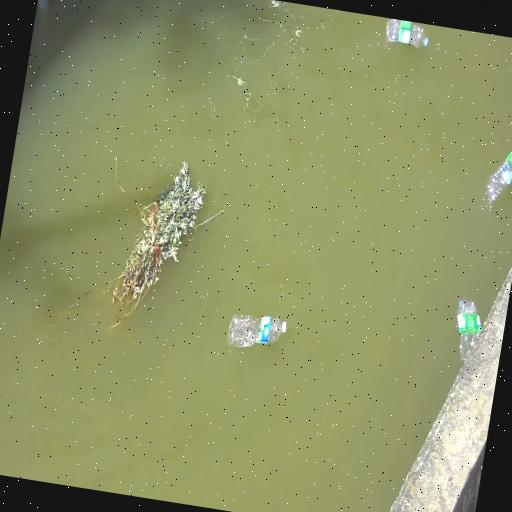plastic: (228, 315, 286, 347), (485, 152, 511, 210), (457, 300, 481, 361), (386, 19, 428, 48)
twig: (110, 161, 205, 328)
